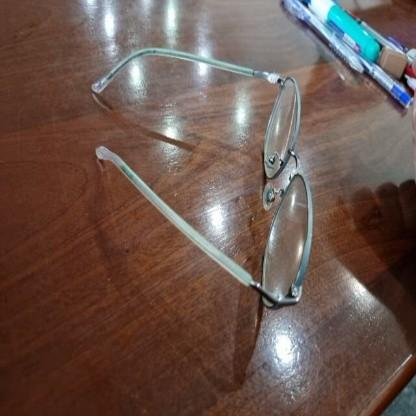not trash: (93, 48, 313, 308), (283, 0, 365, 73), (308, 0, 377, 64), (360, 58, 414, 106)
